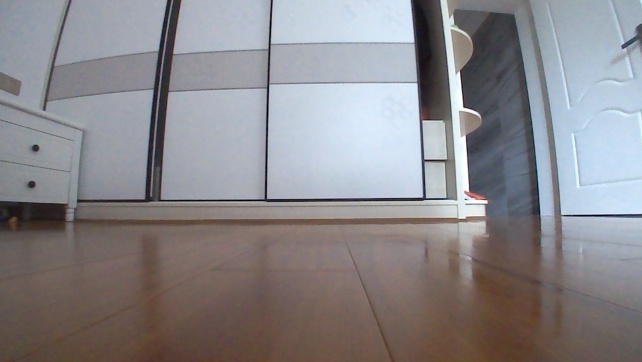cabinet: (0, 96, 86, 224)
door_anno: (510, 0, 641, 225)
